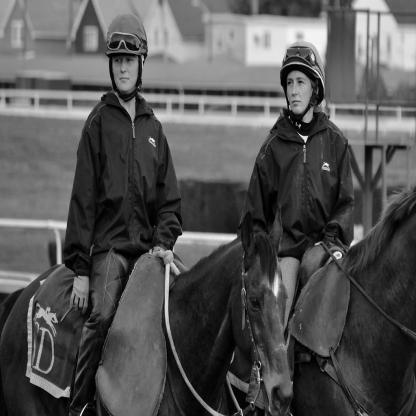Helmet: (102, 12, 146, 100), (279, 39, 326, 121)
